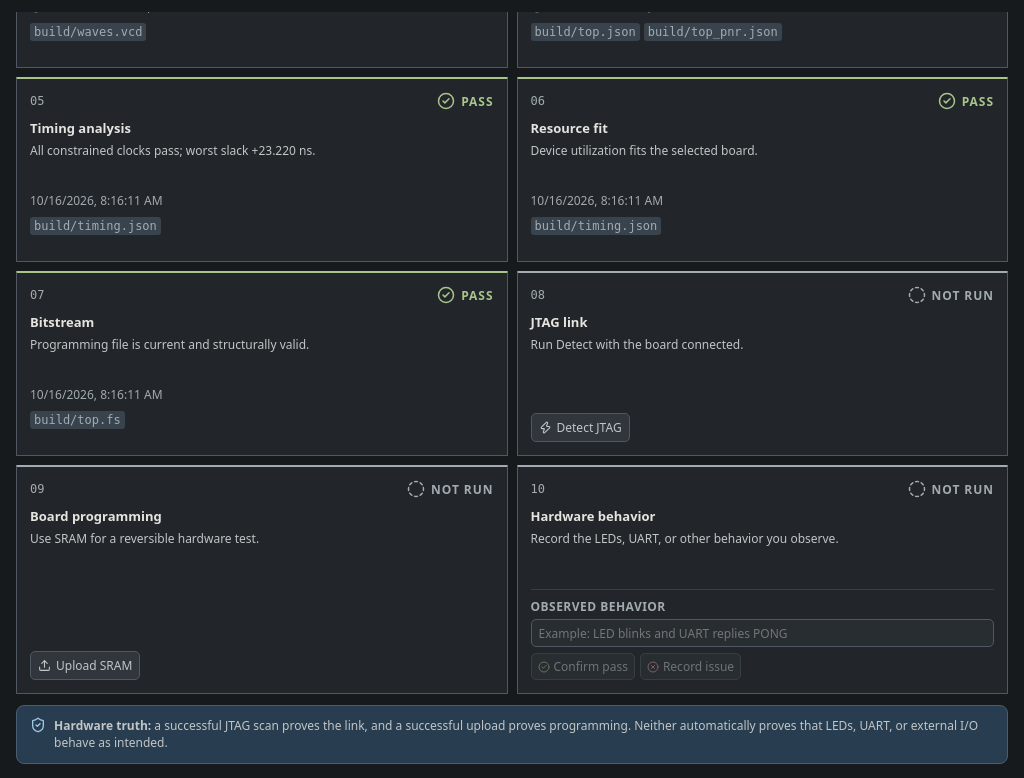
Scenario: design intelligence views › records explicit user evidence instead of inferring hardware behavior
(page scrolled)
Type "LED blinks and UART replies PONG" into the field labelled "Observed behavior" at (762, 633), box [530, 619, 994, 647]
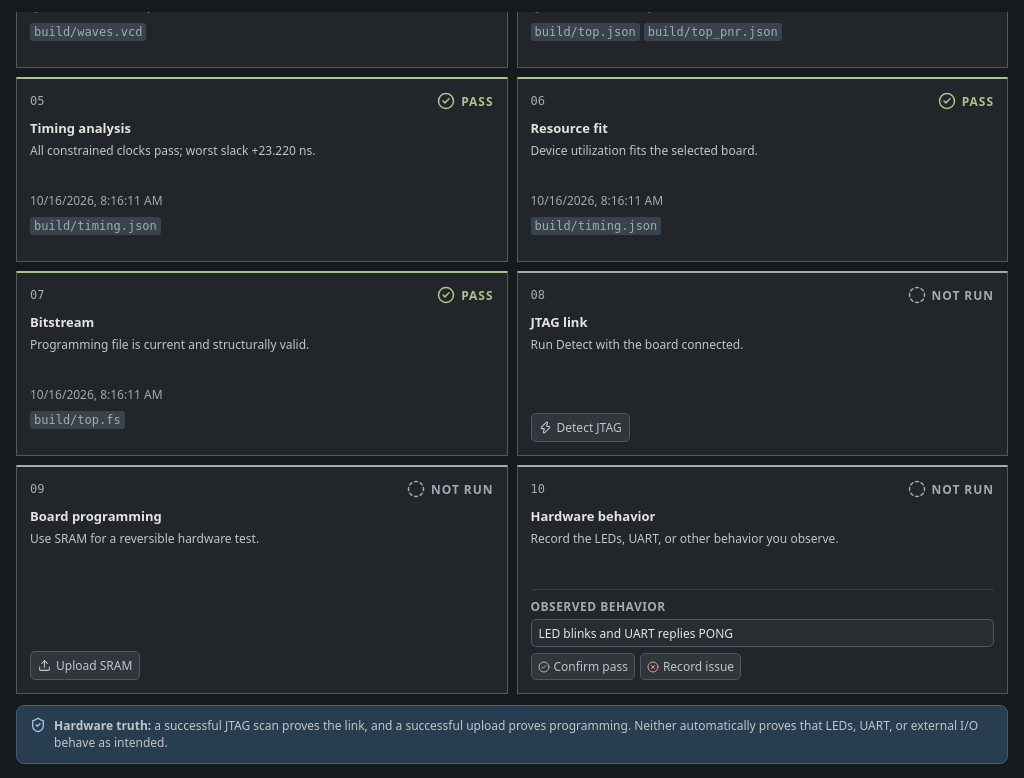
Click the button "Confirm pass" at (583, 666), box [530, 653, 635, 680]
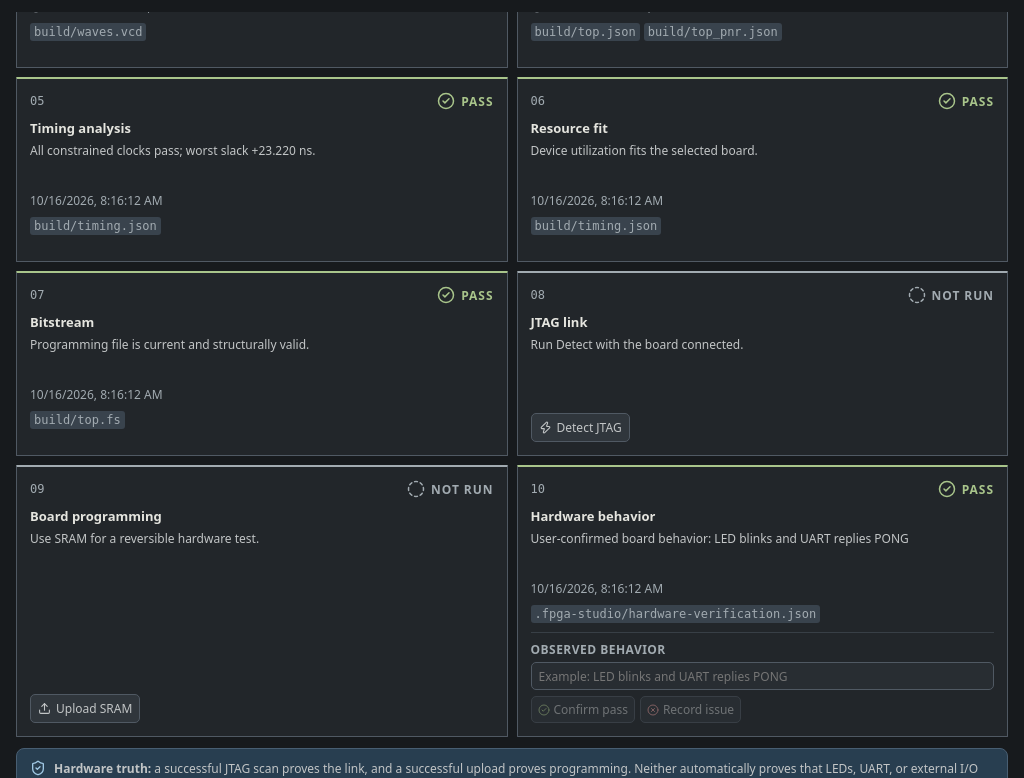
Expected: the text "User-confirmed board behavior" is shown, [530, 530, 909, 547]
